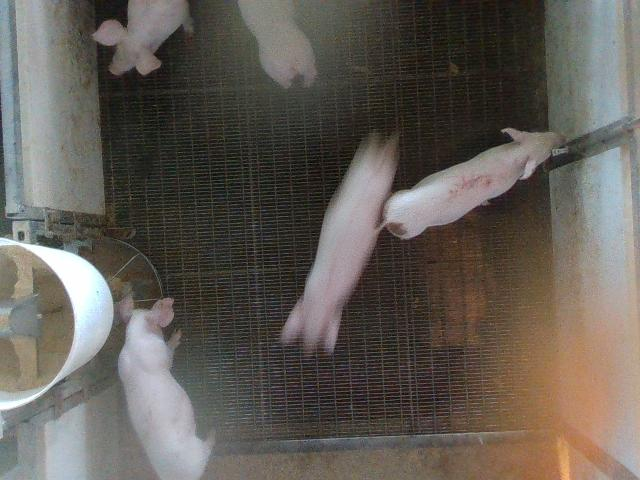pig-5: (382, 128, 565, 239)
